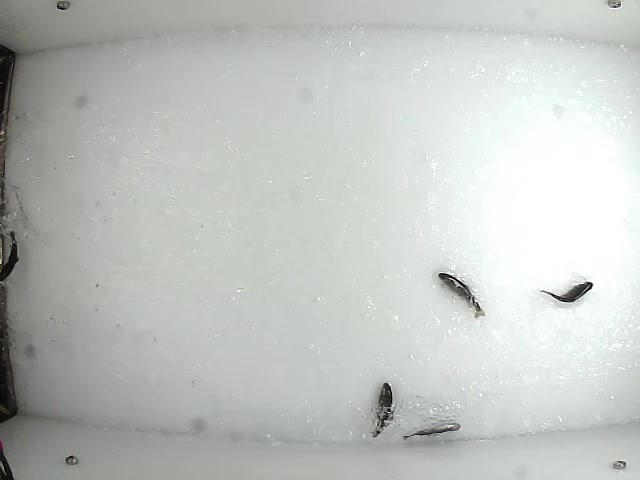fish: (436, 271, 487, 320), (367, 381, 393, 439), (399, 419, 462, 441), (539, 279, 594, 304), (1, 229, 20, 283)
